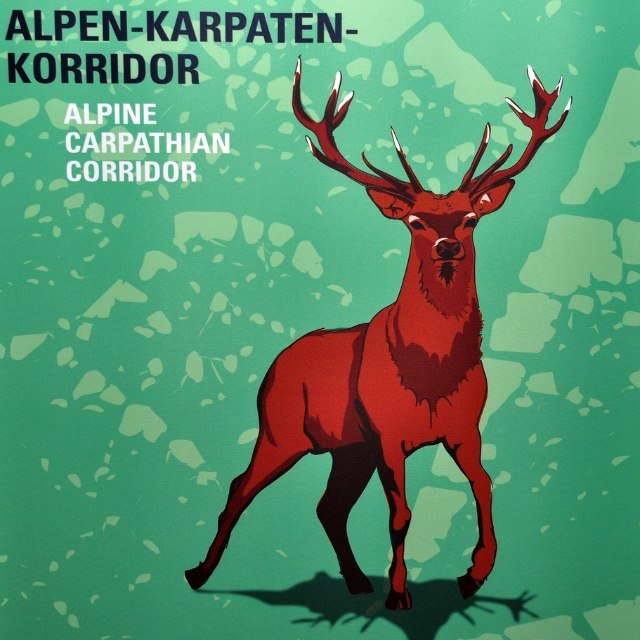Deer: (186, 59, 575, 610)
